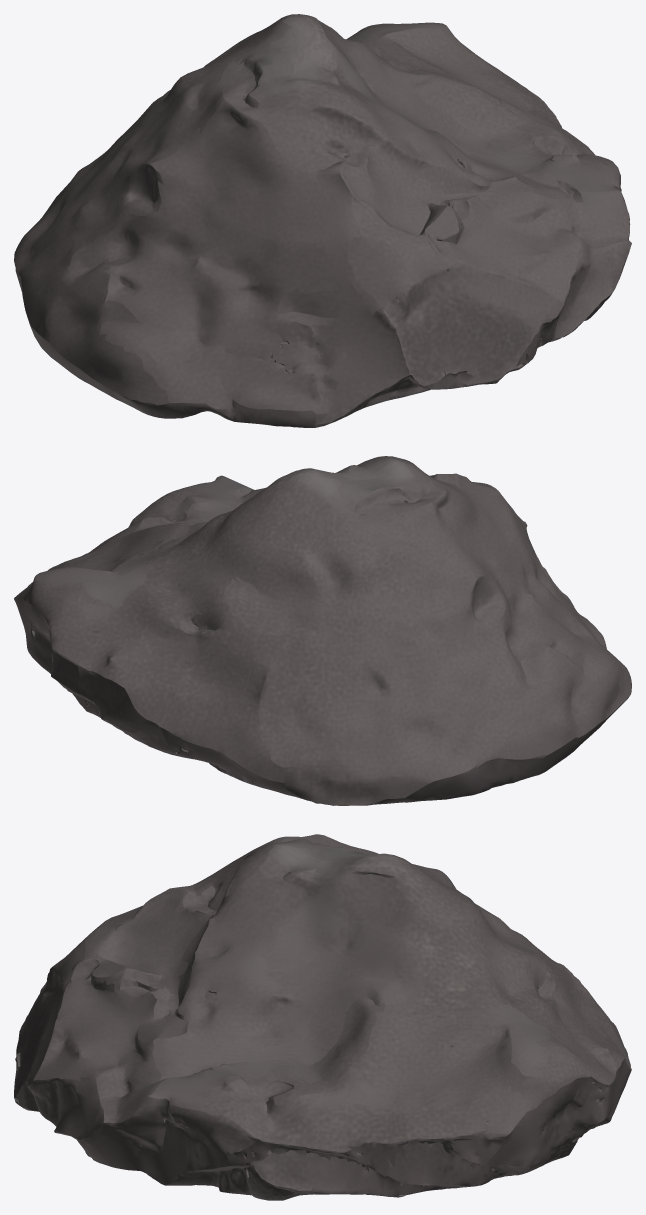
The picture shows the model from 3 angles, top to bottom: view 1: azimuth 30°, elevation 25°; view 2: azimuth 150°, elevation 25°; view 3: azimuth 270°, elevation 25°; orthographic projection. The views are drawn at different scales.
Parts seen in each view (by area): view 1: world; view 2: world; view 3: world.
Boxes of the visible parts, <box> form: world: <box>14,14,631,427</box>; world: <box>14,456,631,805</box>; world: <box>14,834,631,1200</box>.
Size of the model in its own units: 1.2 by 0.5779 by 1.19.
1 material, 1 textured.
